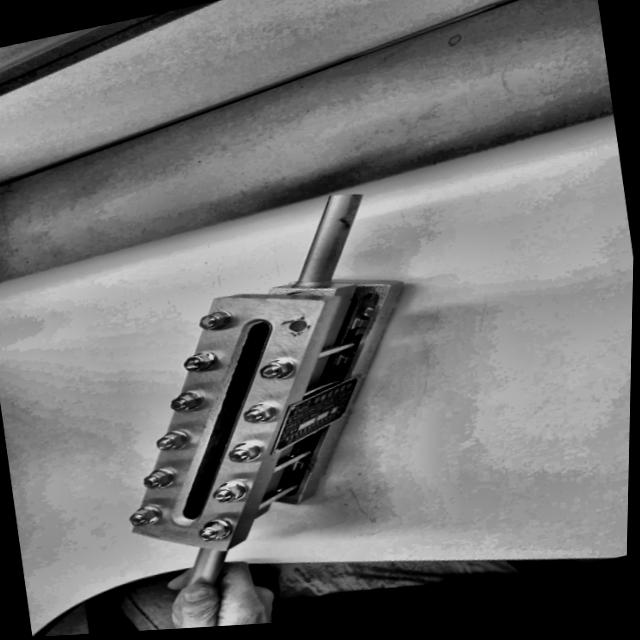ShuiWeiQi_11: (42, 186, 453, 583)
